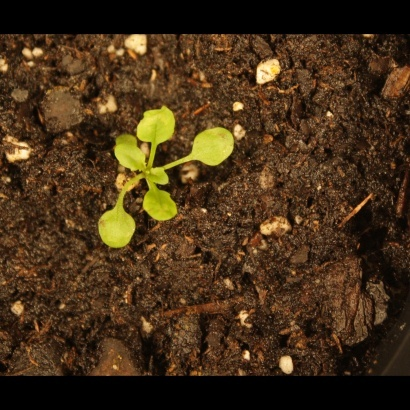leaf: (190, 124, 246, 166), (95, 201, 140, 252), (136, 103, 177, 148), (136, 185, 181, 224), (105, 141, 149, 173), (111, 127, 141, 154), (148, 165, 171, 188)
